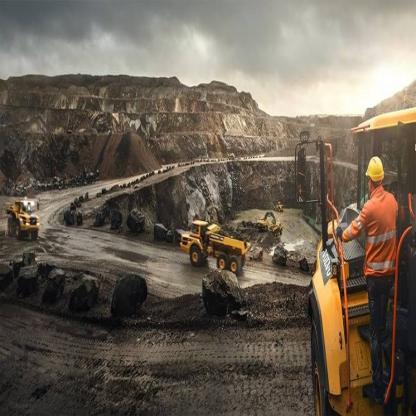dump_truck: (175, 215, 250, 280), (2, 193, 43, 237)
